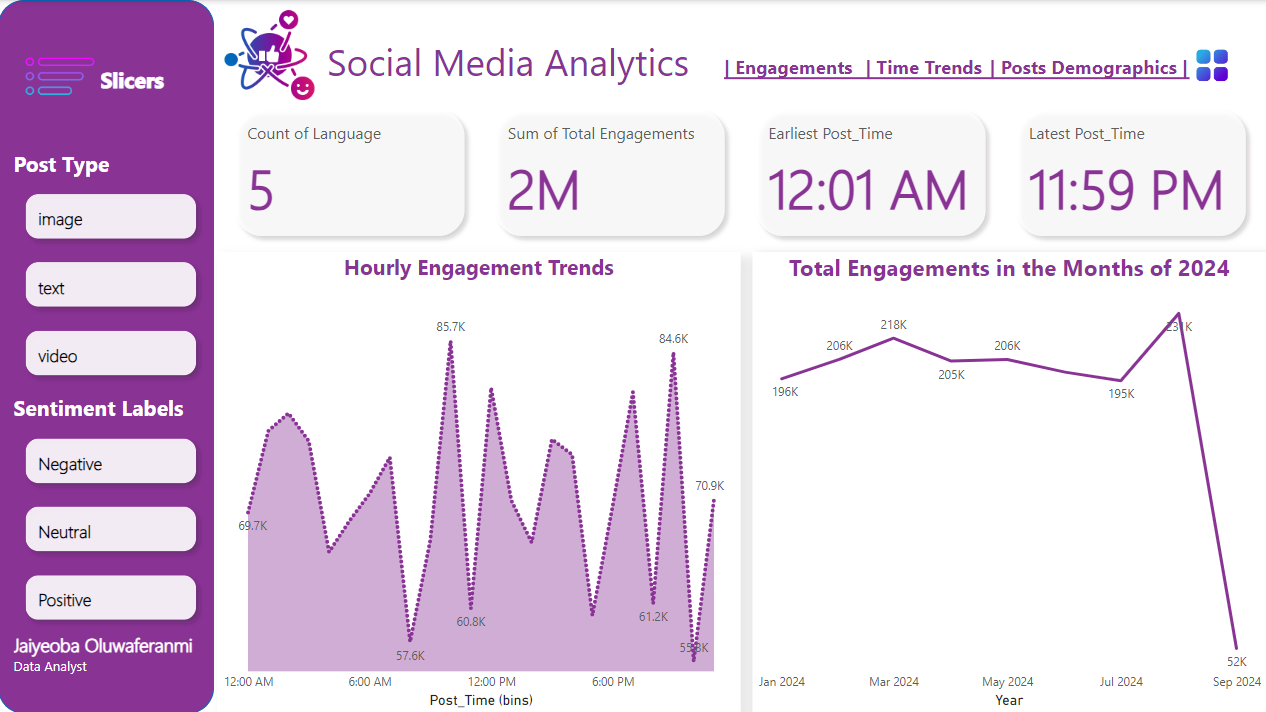

What the dashboard file says about the page in this screenshot:
{"tool":"powerbi","page":{"name":"Time Trends","canvas":[1280,720],"ordinal":1},"visuals":[{"type":"cardVisual","fields":{"Data":["Count(BrainWave SocialMediaSentiments.Language)","Sum(BrainWave SocialMediaSentiments.Total Engagements)","Min(BrainWave SocialMediaSentiments.Post_Time)","Max(BrainWave SocialMediaSentiments.Post_Time)"]},"box":[222,93.5,1057.4,161.6],"z":0},{"type":"shape","box":[0,0,218.1,720.5],"z":1000},{"type":"textbox","box":[327.1,31.8,405.8,80.3],"z":2000},{"type":"lineChart","title":"Hourly Engagement Trends","fields":{"Y":["Sum(BrainWave SocialMediaSentiments.Total Engagements)"],"Category":["BrainWave SocialMediaSentiments.Post_Time (bins)"]},"box":[221.7,255,528.3,465],"z":3000},{"type":"lineChart","title":"Total Engagements in the Months of 2024","fields":{"Y":["Sum(BrainWave SocialMediaSentiments.Total Engagements)"],"Category":["BrainWave SocialMediaSentiments.Post_Date.Variation.Date Hierarchy.Year","BrainWave SocialMediaSentiments.Post_Date.Variation.Date Hierarchy.Quarter","BrainWave SocialMediaSentiments.Post_Date.Variation.Date Hierarchy.Month"]},"box":[761.7,255,518.3,465],"z":4000},{"type":"advancedSlicerVisual","title":"Post Type","fields":{"Values":["BrainWave SocialMediaSentiments.Post_Type"]},"box":[10.9,150.4,206.3,246.6],"z":5000},{"type":"advancedSlicerVisual","title":"Sentiment Labels","fields":{"Values":["BrainWave SocialMediaSentiments.Sentiment_Label"]},"box":[10.9,397,206.3,246.6],"z":6000},{"type":"image","box":[221.8,0,105.5,111.7],"z":7000},{"type":"textbox","box":[10.6,632.9,195.3,74.2],"z":8000},{"type":"image","box":[10.9,31,103.9,93.1],"z":9000},{"type":"textbox","box":[97.7,60.5,91.5,51.2],"z":10000},{"type":"actionButton","title":"| Engagements","box":[733.6,54.3,133.4,32.6],"z":11000},{"type":"actionButton","title":"| Time Trends","box":[866.9,54.3,133.4,32.6],"z":12000},{"type":"actionButton","title":"| Posts Demographics |","box":[1000.3,54.3,203.2,32.6],"z":13000},{"type":"shape","box":[733.6,71.3,469.9,15.5],"z":14000},{"type":"image","box":[1202.3,43.9,46.9,43.9],"z":15000}]}

Visuals, with their boxes in screenshot pixels (x1, y1, x2, y2), scaled from the page's 1280x720 canvas onto the 1266x712 screenshot:
cardVisual - Count(BrainWave SocialMediaSentiments.Language) x Sum(BrainWave SocialMediaSentiments.Total Engagements): rect(220, 92, 1265, 252)
shape: rect(0, 0, 216, 711)
textbox: rect(324, 31, 725, 111)
"Hourly Engagement Trends" lineChart: rect(219, 252, 742, 711)
"Total Engagements in the Months of 2024" lineChart: rect(753, 252, 1265, 711)
"Post Type" advancedSlicerVisual: rect(11, 149, 215, 393)
"Sentiment Labels" advancedSlicerVisual: rect(11, 393, 215, 636)
image: rect(219, 0, 324, 110)
textbox: rect(10, 626, 204, 699)
image: rect(11, 31, 114, 123)
textbox: rect(97, 60, 187, 110)
"| Engagements" actionButton: rect(726, 54, 858, 86)
"| Time Trends" actionButton: rect(857, 54, 989, 86)
"| Posts Demographics |" actionButton: rect(989, 54, 1190, 86)
shape: rect(726, 71, 1190, 86)
image: rect(1189, 43, 1236, 87)
